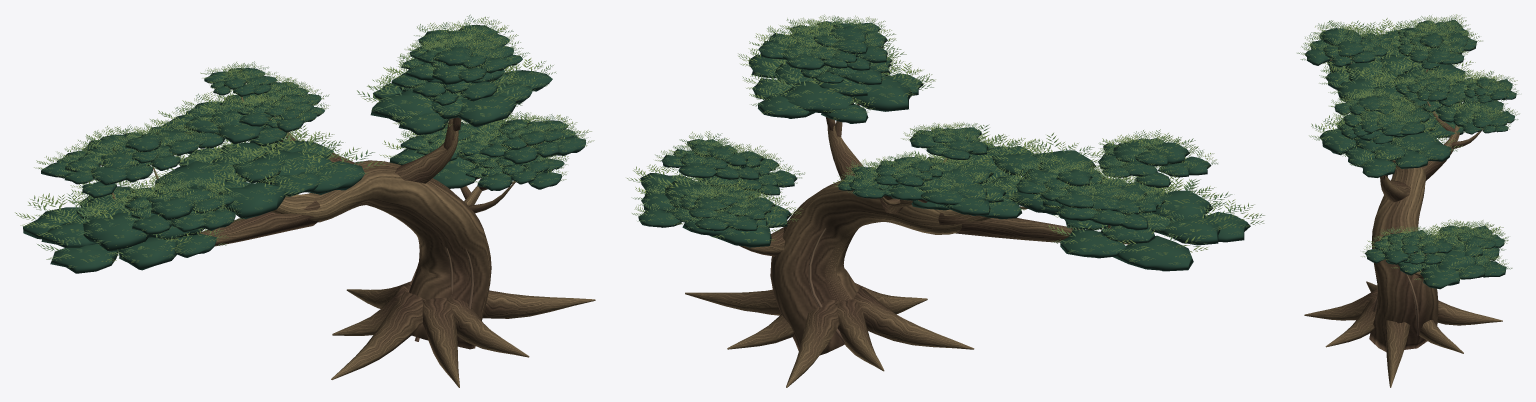
The picture shows the model from 3 angles, left to right: view 1: azimuth 30°, elevation 25°; view 2: azimuth 150°, elevation 25°; view 3: azimuth 270°, elevation 25°; orthographic projection. The views are drawn at different scales.
Visible parts, largest first — view 1: Crown_mass, Outer_foliage, Weathered_bark; view 2: Crown_mass, Outer_foliage, Weathered_bark; view 3: Crown_mass, Outer_foliage, Weathered_bark, Sunlit_bark_ridges.
Part boxes in pixels (<box>): Crown_mass: <box>23,25,585,273</box>; Outer_foliage: <box>15,14,594,267</box>; Weathered_bark: <box>102,83,595,387</box>; Crown_mass: <box>638,21,1250,271</box>; Outer_foliage: <box>627,14,1264,264</box>; Weathered_bark: <box>685,104,1129,387</box>; Crown_mass: <box>1305,19,1516,289</box>; Outer_foliage: <box>1297,14,1519,285</box>; Weathered_bark: <box>1304,57,1502,387</box>; Sunlit_bark_ridges: <box>1373,274,1418,335</box>.
Size of the model in its own units: 9.62 by 4.91 by 4.1.
Materials: 4 (1 with a texture image).
